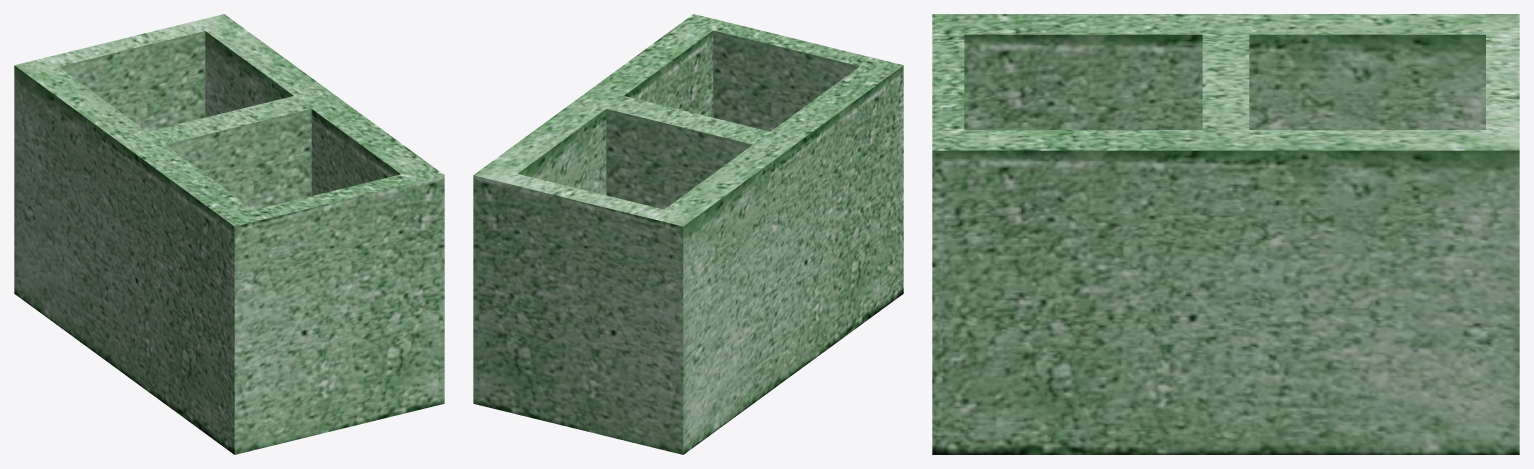
File: ladrillo verde.fbx
3 views of the same model, side by side, from view 1: azimuth 30°, elevation 25°; view 2: azimuth 150°, elevation 25°; view 3: azimuth 270°, elevation 25° (orthographic). The views are drawn at different scales.
Parts seen in each view (by area): view 1: ladrillo 3; view 2: ladrillo 3; view 3: ladrillo 3.
Part boxes in pixels (bbox=[...]): ladrillo 3: bbox=[14, 14, 444, 454]; ladrillo 3: bbox=[473, 14, 903, 454]; ladrillo 3: bbox=[932, 14, 1519, 454].
Bounding box in the file's own units: 337 × 350 × 611.
